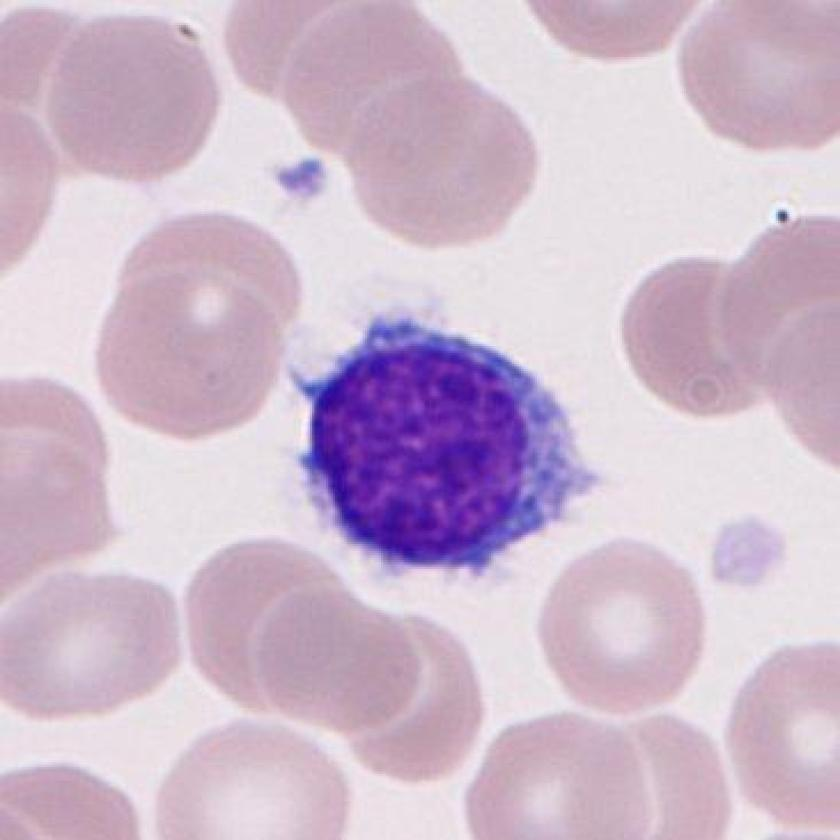lymphocyte: (274, 299, 602, 600)
